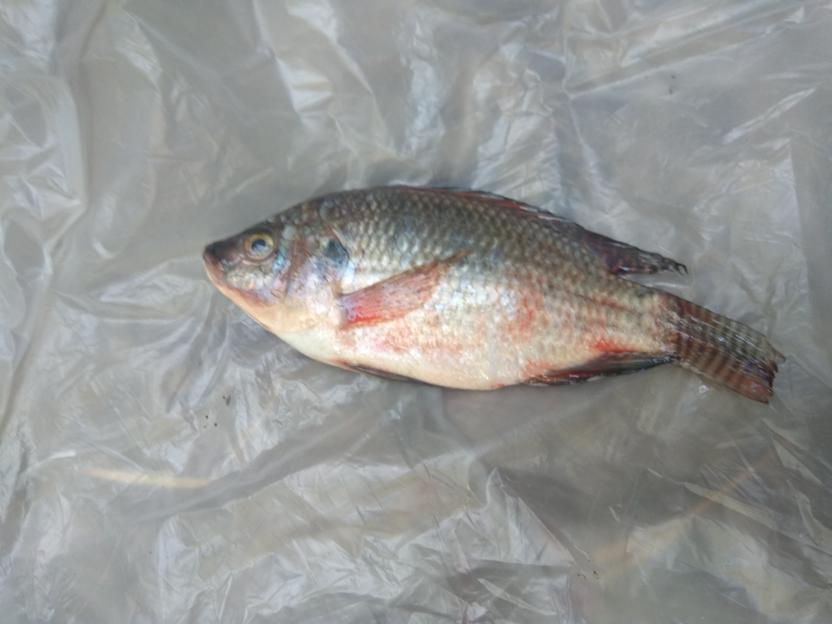Fish head: (201, 191, 350, 343), (661, 291, 788, 408)
